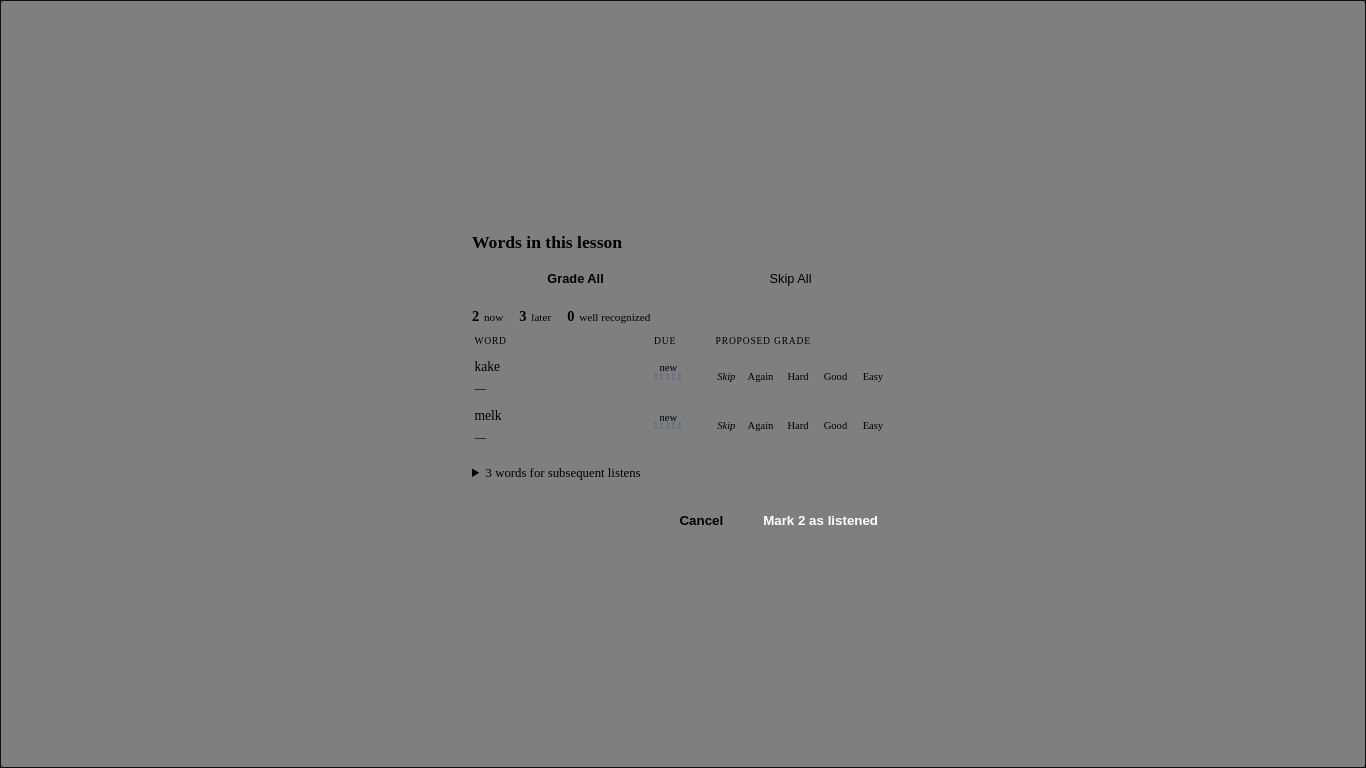
ListenPreviewModal — over-budget creation tail › re-checking a skipped create restores the count without touching the tail
Expected: the text "kake" is shown, [474, 359, 500, 374]
What coordinates should you click on to do the following:
click the button "Skip" in the row of "kake"
I would click on:
 (726, 376)
Its box is [716, 357, 737, 395].
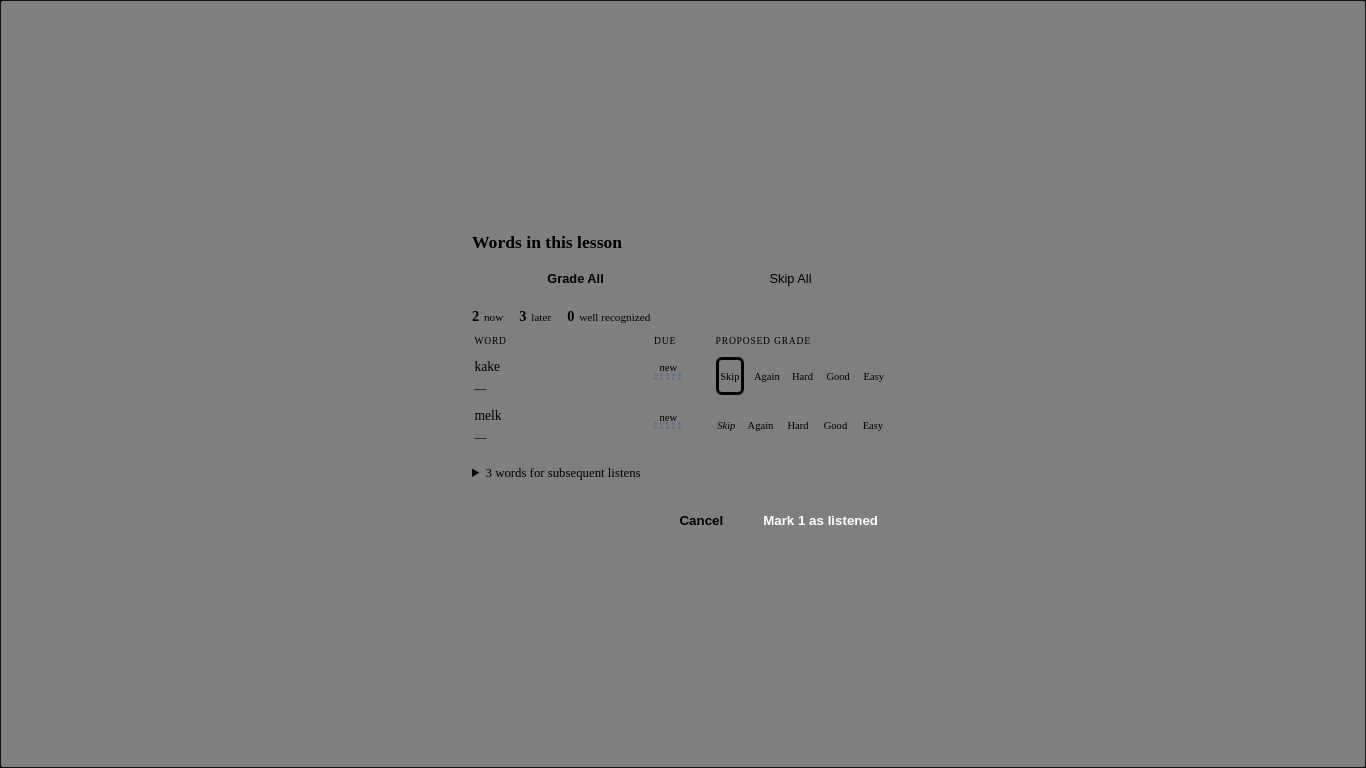
Result: the button "Mark 1 as listened" is shown at [747, 505, 894, 536]
What coordinates should you click on to do the following:
click the button "Good" in the row of "kake"
I would click on:
 (838, 376)
Its box is [820, 357, 856, 395].
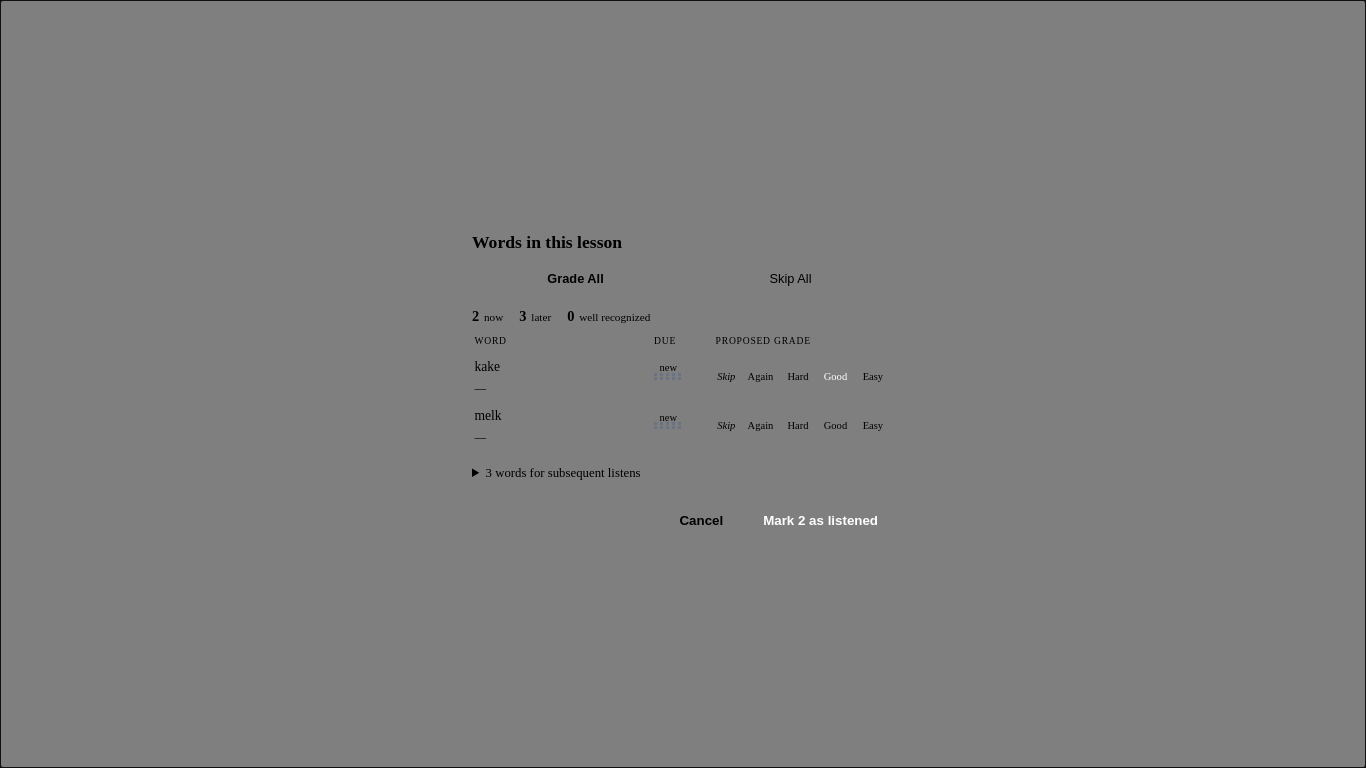
Result: the button "Mark 2 as listened" is shown at [747, 505, 894, 536]
